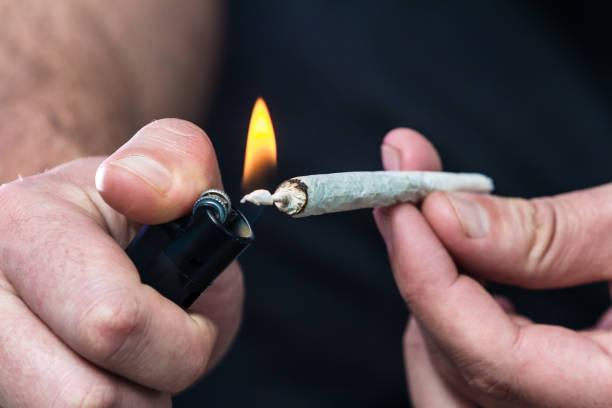Fire: (244, 97, 278, 189)
